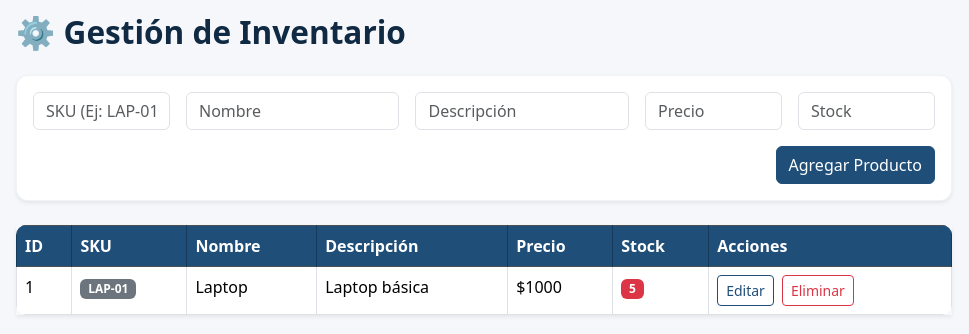
it: Gestion › vuelve al modo creación al hacer click en Cancelar
Expected: the text "Laptop" is shown, [187,266,317,314]
Step 1. Click the button "Editar" → x=746, y=290, box [717,275,774,306]
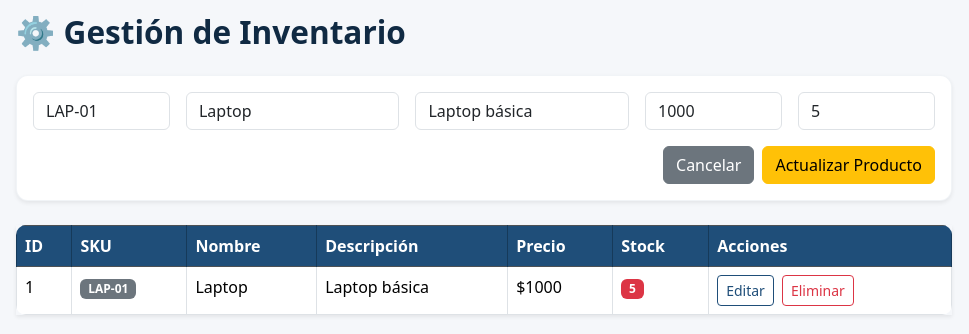
Expected: the button "Actualizar Producto" is shown, [762,146,935,184]
Step 2. Click the button "Cancelar" → x=709, y=165, box [663,146,754,184]
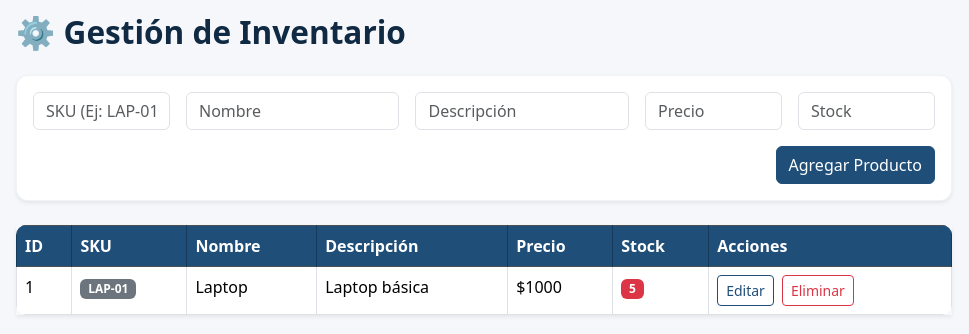
Expected: the button "Agregar Producto" is shown, [776,146,935,184]
Expected: the button "Cancelar" is gone
